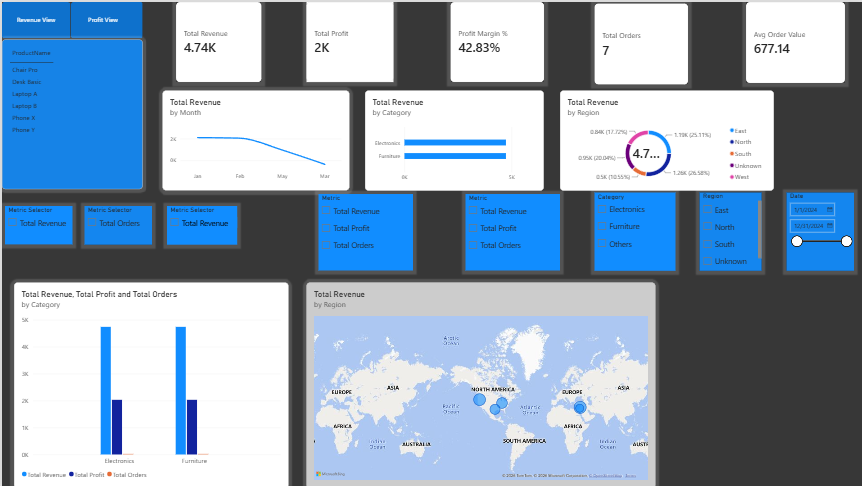

Layout of this report page (visuals, bound fields, positions):
{"tool":"powerbi","page":{"name":"Page 1","canvas":[1920,1080],"ordinal":0},"visuals":[{"type":"cardVisual","fields":{"Data":["Customers.Total Revenue"]},"box":[385,0,190,178.9],"z":0},{"type":"cardVisual","fields":{"Data":["Customers.Total Profit"]},"box":[675,0,193.3,177.8],"z":1000},{"type":"cardVisual","fields":{"Data":["Customers.Profit Margin %"]},"box":[995,0,208.9,178.9],"z":2000},{"type":"lineChart","fields":{"Category":["DateTable.Month"],"Y":["Customers.Total Revenue"]},"box":[357.5,195,415.6,221.9],"z":3000},{"type":"clusteredBarChart","fields":{"Category":["Targets.Category"],"Y":["Customers.Total Revenue"]},"box":[807.5,195,397.5,222.5],"z":4000},{"type":"actionButton","box":[0,0,152.4,81],"z":5000},{"type":"actionButton","box":[152.4,0,159.5,81],"z":6000},{"type":"slicer","fields":{"Values":["Customers.Region"]},"box":[1550,422,138,174],"z":7000},{"type":"slicer","fields":{"Values":["Products.Category"]},"box":[1318,422,180,174],"z":8000},{"type":"slicer","fields":{"Values":["DateTable.Date"]},"box":[1744,422,150,174],"z":9000},{"type":"slicer","fields":{"Values":["Metric Selector.Metric Selector"]},"box":[8,452,150,85],"z":10000},{"type":"slicer","fields":{"Values":["Metric Selector 3.Metric Selector"]},"box":[182,454,150,86],"z":11000},{"type":"slicer","fields":{"Values":["Metric Selector.Metric Selector"]},"box":[366,454,156,86],"z":12000},{"type":"slicer","fields":{"Values":["Metric 2.Metric"]},"box":[1030,426,210,170],"z":13000},{"type":"clusteredColumnChart","fields":{"Category":["Targets.Category"],"Y":["Customers.Total Revenue","Customers.Total Profit","Customers.Total Orders"]},"box":[26,622,610,457.5],"z":14000},{"type":"slicer","fields":{"Values":["Metric 2.Metric"]},"box":[702,426,210,170],"z":15000},{"type":"tableEx","fields":{"Values":["Products.ProductName"]},"box":[0,84.3,312.5,332.5],"z":16000},{"type":"cardVisual","fields":{"Data":["Customers.Total Orders"]},"box":[1317.5,2.5,208,180],"z":17000},{"type":"cardVisual","fields":{"Data":["Customers.Avg Order Value"]},"box":[1652.5,0,220,180],"z":18000},{"type":"donutChart","fields":{"Category":["Customers.Region"],"Y":["Customers.Total Revenue"]},"box":[1240,195,475,222.5],"z":19000},{"type":"map","fields":{"Category":["Customers.Region"],"Size":["Customers.Total Revenue"]},"box":[676,622,775,457.5],"z":20000}]}

Visuals, with their boxes in screenshot pixels (x1, y1, x2, y2), scaled from the page's 1920x1080 canvas onto the 862x486 screenshot:
cardVisual - Customers.Total Revenue: rect(173, 0, 258, 81)
cardVisual - Customers.Total Profit: rect(303, 0, 390, 80)
cardVisual - Customers.Profit Margin %: rect(447, 0, 541, 81)
lineChart - DateTable.Month x Customers.Total Revenue: rect(161, 88, 347, 188)
clusteredBarChart - Targets.Category x Customers.Total Revenue: rect(363, 88, 541, 188)
actionButton: rect(0, 0, 68, 36)
actionButton: rect(68, 0, 140, 36)
slicer - Customers.Region: rect(696, 190, 758, 268)
slicer - Products.Category: rect(592, 190, 673, 268)
slicer - DateTable.Date: rect(783, 190, 850, 268)
slicer - Metric Selector.Metric Selector: rect(4, 203, 71, 242)
slicer - Metric Selector 3.Metric Selector: rect(82, 204, 149, 243)
slicer - Metric Selector.Metric Selector: rect(164, 204, 234, 243)
slicer - Metric 2.Metric: rect(462, 192, 557, 268)
clusteredColumnChart - Targets.Category x Customers.Total Revenue: rect(12, 280, 286, 485)
slicer - Metric 2.Metric: rect(315, 192, 409, 268)
tableEx - Products.ProductName: rect(0, 38, 140, 188)
cardVisual - Customers.Total Orders: rect(592, 1, 685, 82)
cardVisual - Customers.Avg Order Value: rect(742, 0, 841, 81)
donutChart - Customers.Region x Customers.Total Revenue: rect(557, 88, 770, 188)
map - Customers.Region x Customers.Total Revenue: rect(303, 280, 651, 485)
